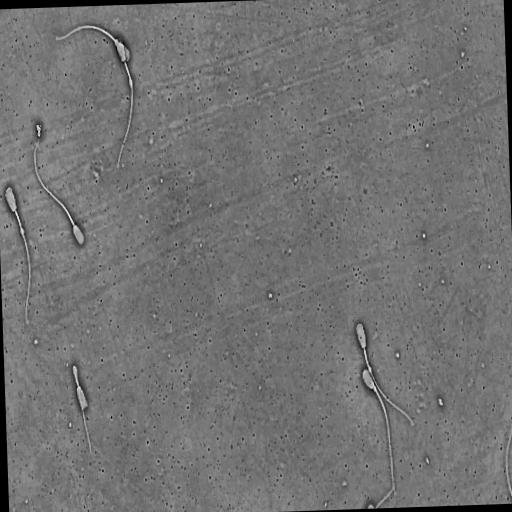dirt-particles: (35, 122, 42, 138)
distal-droplet: (128, 77, 132, 88), (368, 365, 372, 374), (20, 227, 24, 235)
folded-tail: (72, 365, 92, 453)
loose-tail: (503, 416, 512, 502)
normal: (355, 318, 417, 426), (32, 136, 85, 247), (361, 365, 396, 495), (2, 181, 33, 325), (55, 22, 131, 62), (115, 41, 134, 169), (70, 359, 93, 458)
proximal-droplet: (114, 38, 120, 46), (373, 385, 377, 392)
